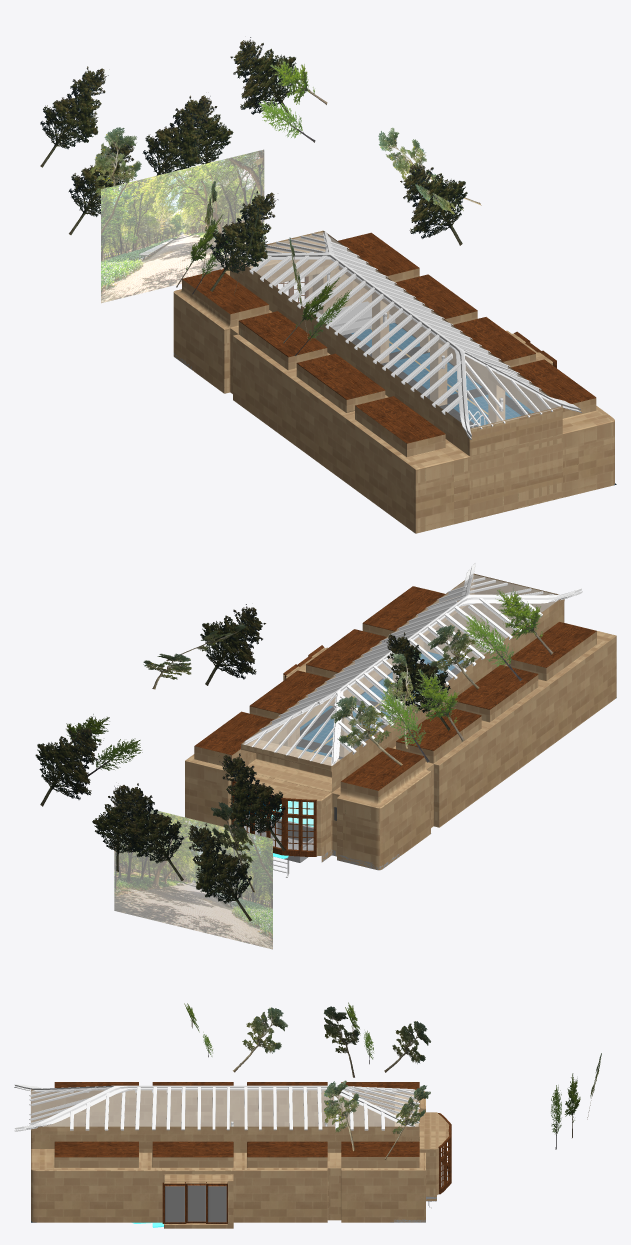
The picture shows the model from 3 angles, top to bottom: view 1: azimuth 30°, elevation 25°; view 2: azimuth 150°, elevation 25°; view 3: azimuth 270°, elevation 25°; orthographic projection. The views are drawn at different scales.
Parts seen in each view (by area): view 1: Cube.000, bosque, glass_windows, wood, roof_holders, tree_38_png_by_gd08-d314yfi.004, tree_38_png_by_gd08-d314yfi.003, floor, tree_38_png_by_gd08-d314yfi.002, tree_38_png_by_gd08-d314yfi.006, tree_38_png_by_gd08-d314yfi.005, window_holders (+8 smaller); view 2: Cube.000, wood, bosque, glass_windows, roof_holders, tree_38_png_by_gd08-d314yfi.004, tree_38_png_by_gd08-d314yfi.005, tree_38_png_by_gd08-d314yfi.001, tree_38_png_by_gd08-d314yfi.006, 96e5cc21ff8e88d76cab4abe347fedbc_0, 96e5cc21ff8e88d76cab4abe347fedbc.001_0, window_holders (+13 smaller); view 3: Cube.000, glass_windows, wood, roof_holders, window_holders, 20-Free-Tree-PNG-Images-TabebuiaA01L.001, 20-Free-Tree-PNG-Images-TabebuiaA01L.004, Cube.001, 20-Free-Tree-PNG-Images-TabebuiaA01L, 20-Free-Tree-PNG-Images-TabebuiaA01L.002, Cube.009, Cube.013 (+4 smaller).
Part boxes in pixels (x1=…): Cube.000: x1=173, y1=230, x2=614, y2=533; bosque: x1=101, y1=149, x2=264, y2=303; glass_windows: x1=237, y1=232, x2=561, y2=428; wood: x1=182, y1=232, x2=596, y2=443; roof_holders: x1=243, y1=233, x2=552, y2=429; tree_38_png_by_gd08-d314yfi.004: x1=40, y1=66, x2=108, y2=167; tree_38_png_by_gd08-d314yfi.003: x1=209, y1=190, x2=278, y2=291; floor: x1=342, y1=322, x2=616, y2=485; tree_38_png_by_gd08-d314yfi.002: x1=142, y1=95, x2=210, y2=175; tree_38_png_by_gd08-d314yfi.006: x1=400, y1=161, x2=467, y2=245; tree_38_png_by_gd08-d314yfi.005: x1=230, y1=37, x2=297, y2=121; window_holders: x1=235, y1=232, x2=581, y2=439; Cube.000: x1=185, y1=573, x2=616, y2=869; wood: x1=195, y1=586, x2=596, y2=790; bosque: x1=114, y1=800, x2=272, y2=949; glass_windows: x1=243, y1=574, x2=557, y2=765; roof_holders: x1=251, y1=577, x2=553, y2=763; tree_38_png_by_gd08-d314yfi.004: x1=219, y1=753, x2=285, y2=851; tree_38_png_by_gd08-d314yfi.005: x1=35, y1=724, x2=101, y2=806; tree_38_png_by_gd08-d314yfi.001: x1=188, y1=823, x2=252, y2=921; tree_38_png_by_gd08-d314yfi.006: x1=200, y1=604, x2=265, y2=685; 96e5cc21ff8e88d76cab4abe347fedbc_0: x1=379, y1=669, x2=464, y2=762; 96e5cc21ff8e88d76cab4abe347fedbc.001_0: x1=464, y1=587, x2=553, y2=681; window_holders: x1=244, y1=563, x2=582, y2=765; Cube.000: x1=31, y1=1089, x2=449, y2=1228; glass_windows: x1=30, y1=1087, x2=418, y2=1126; wood: x1=54, y1=1082, x2=419, y2=1157; roof_holders: x1=29, y1=1086, x2=419, y2=1130; window_holders: x1=14, y1=1084, x2=415, y2=1131; 20-Free-Tree-PNG-Images-TabebuiaA01L.001: x1=233, y1=1007, x2=287, y2=1072; 20-Free-Tree-PNG-Images-TabebuiaA01L.004: x1=324, y1=1080, x2=359, y2=1151; Cube.001: x1=162, y1=1182, x2=186, y2=1223; 20-Free-Tree-PNG-Images-TabebuiaA01L: x1=384, y1=1021, x2=430, y2=1072; 20-Free-Tree-PNG-Images-TabebuiaA01L.002: x1=324, y1=1006, x2=359, y2=1077; Cube.009: x1=206, y1=1182, x2=227, y2=1223; Cube.013: x1=185, y1=1182, x2=206, y2=1223.
Size of the model in its own units: 17.94 by 12.82 by 34.45.
